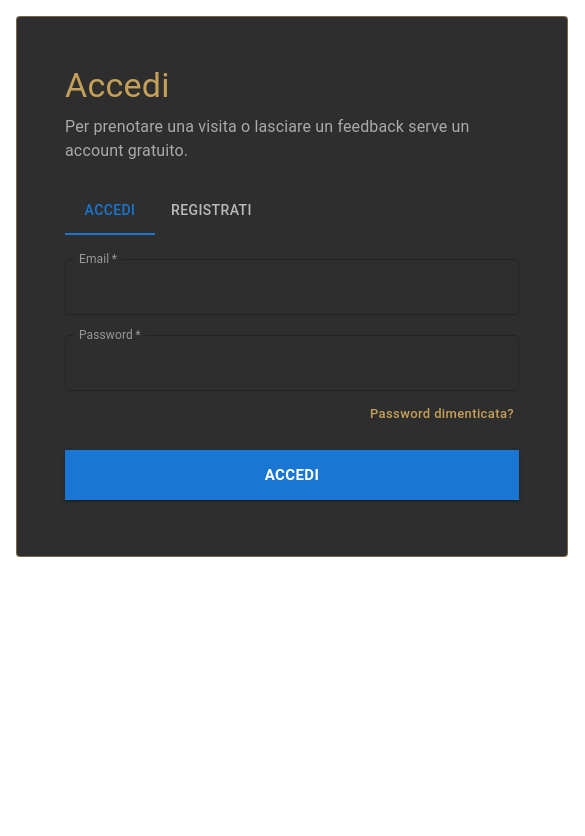
Test: Accedi › la conferma email compare solo nella scheda Registrati
The width and height of the screenshot is (585, 836).
Expected: the field labelled "Conferma email" is not shown
Click the tab "Registrati" at (211, 211), box [155,187,268,235]
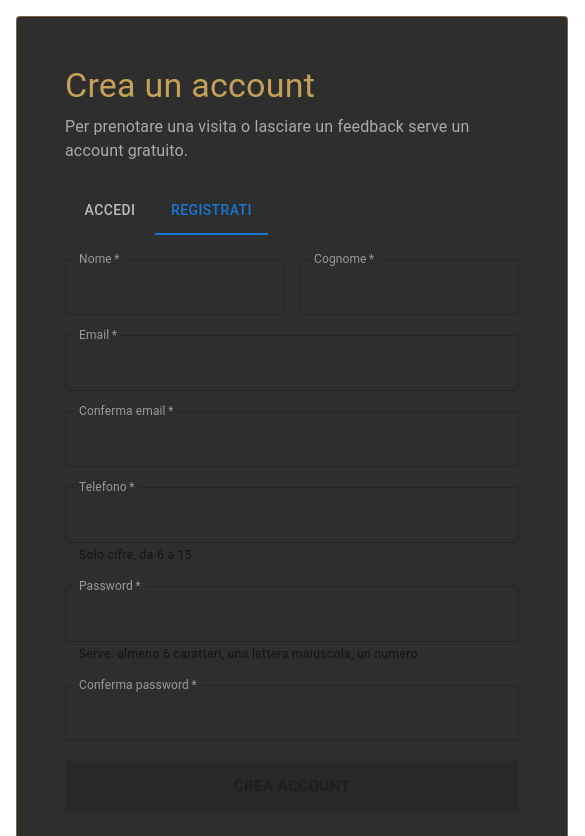
Expected: the field labelled "Conferma email *" is shown, [65,411,519,467]
